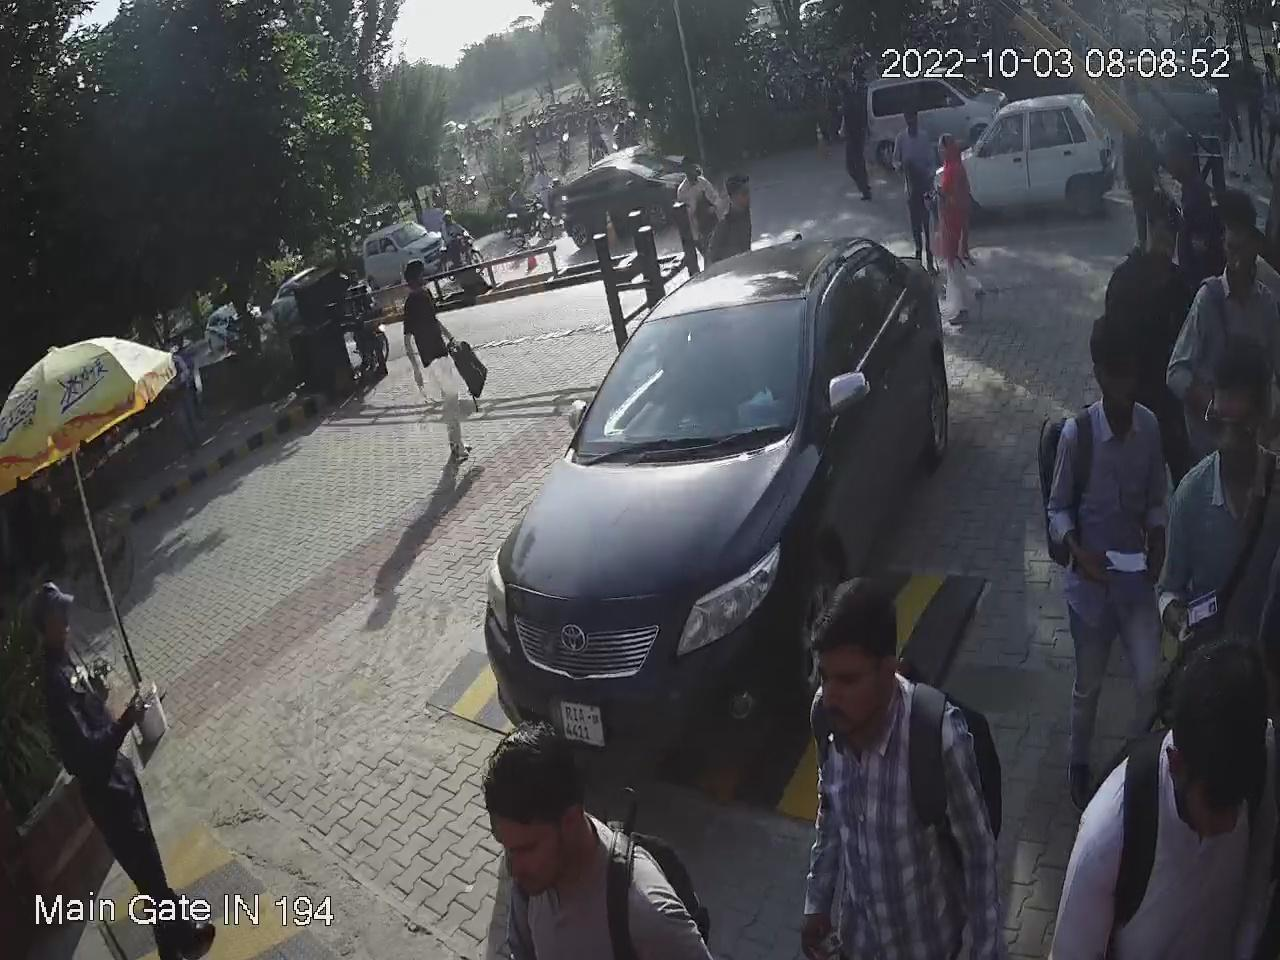windshield: (575, 282, 820, 455)
